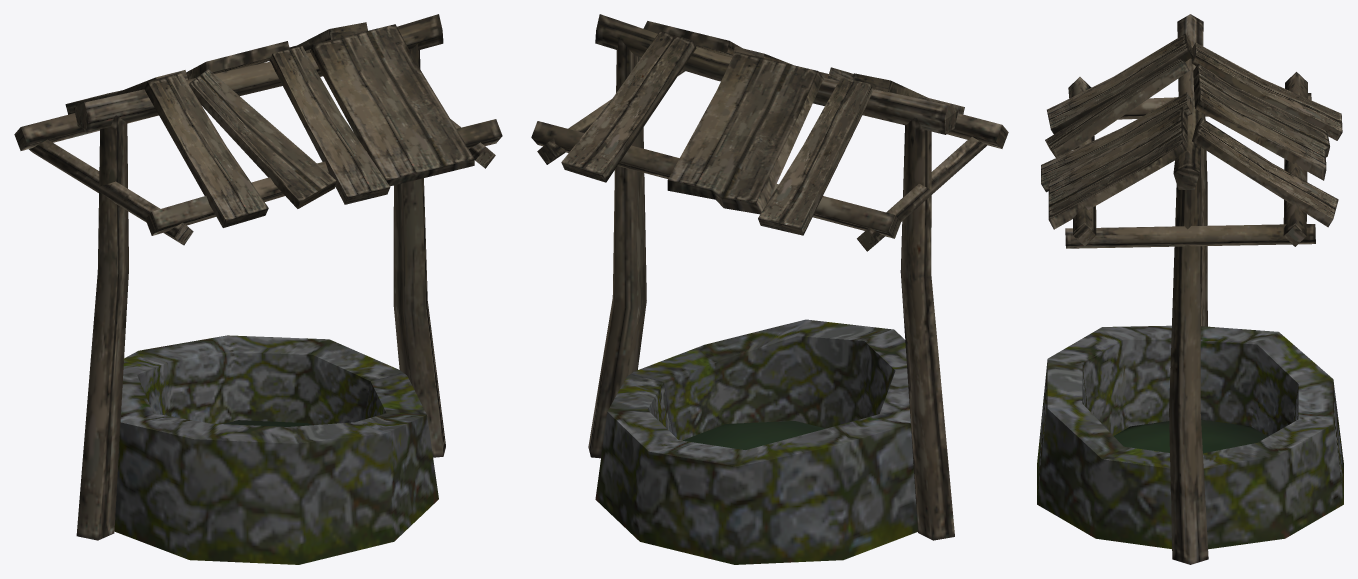
The model's file is kqzd_shuijing.FBX.
The picture shows the model from 3 angles, left to right: view 1: azimuth 30°, elevation 25°; view 2: azimuth 150°, elevation 25°; view 3: azimuth 270°, elevation 25°; orthographic projection. The views are drawn at different scales.
Visible parts, largest first — view 1: kqzd_shuijing; view 2: kqzd_shuijing; view 3: kqzd_shuijing.
Boxes of the visible parts, left/top/right/bottom form: kqzd_shuijing: left=14, top=14, right=502, bottom=564; kqzd_shuijing: left=531, top=14, right=1008, bottom=564; kqzd_shuijing: left=1037, top=14, right=1343, bottom=564.
Bounding box in the file's own units: 219 × 174 × 250.
